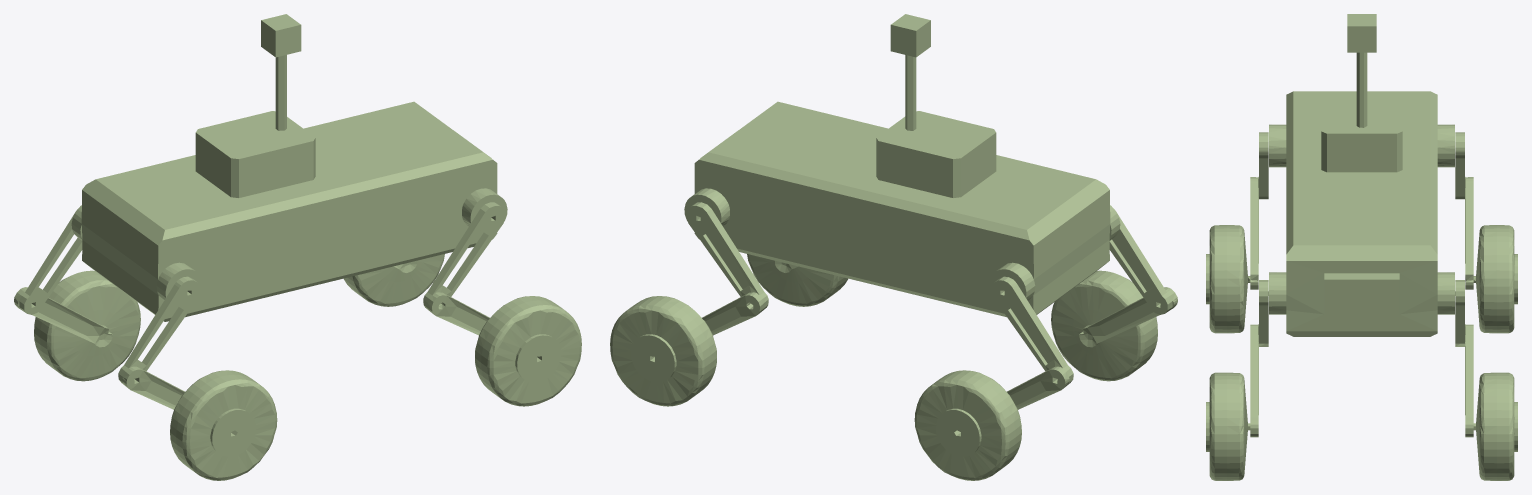
File: leshy.glb
3 views of the same model, side by side, from view 1: azimuth 30°, elevation 25°; view 2: azimuth 150°, elevation 25°; view 3: azimuth 270°, elevation 25° (orthographic).
Parts seen in each view (by area): view 1: body; view 2: body; view 3: body.
Boxes of the visible parts, x1,y1,x2,y2 form: body: [14, 14, 581, 480]; body: [610, 14, 1177, 480]; body: [1206, 14, 1517, 480].
Bounding box in the file's own units: 2.58 × 2.1 × 1.61.
